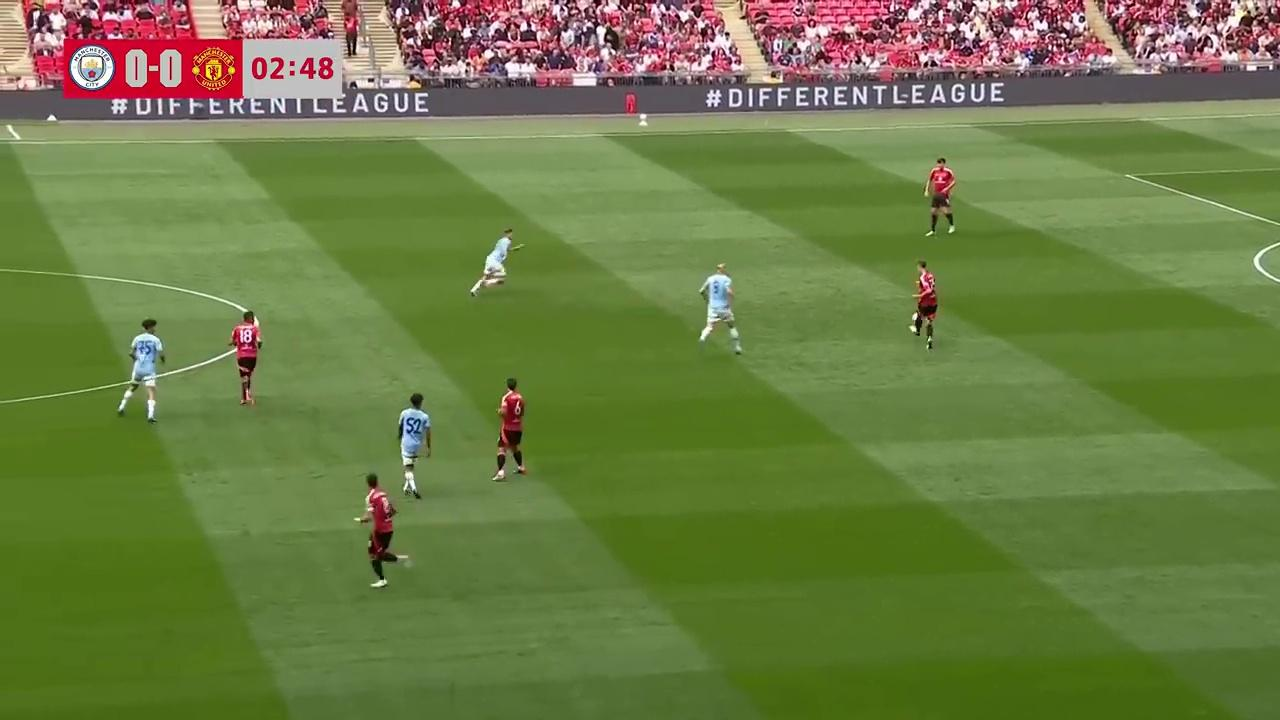player: (356, 475, 412, 587), (117, 319, 165, 422), (697, 263, 744, 352), (491, 378, 528, 481), (396, 393, 431, 500), (470, 228, 519, 296), (228, 310, 262, 407), (909, 260, 939, 349), (923, 156, 956, 236)
